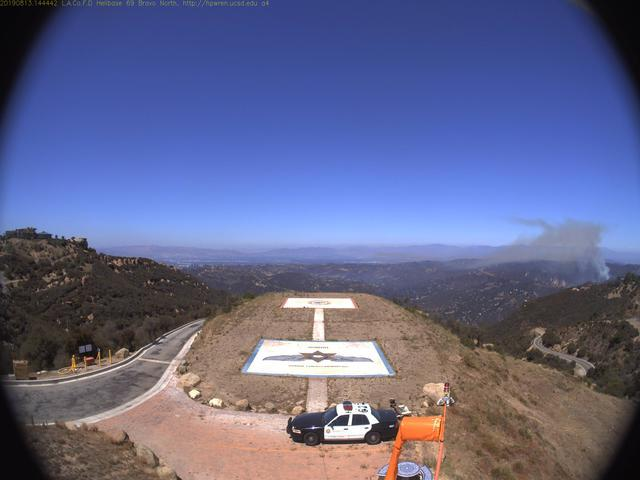smoke: (486, 213, 618, 289)
